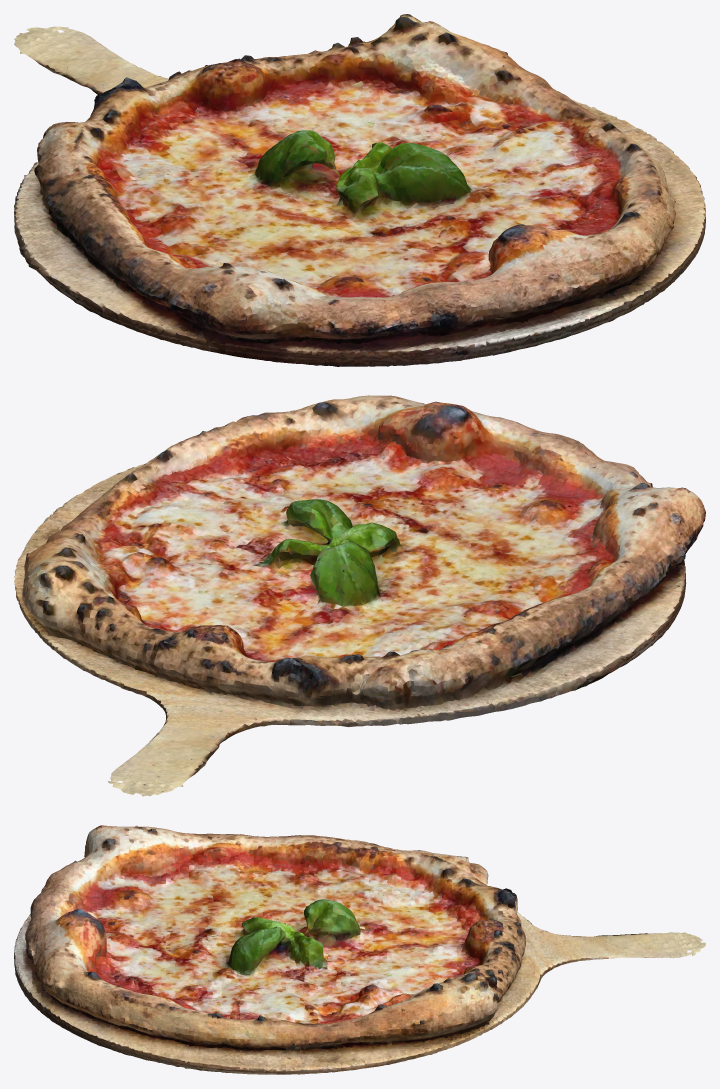
The model's file is pizza-margherita.glb.
3 renders of one model, top to bottom at view 1: azimuth 30°, elevation 25°; view 2: azimuth 150°, elevation 25°; view 3: azimuth 270°, elevation 25°, orthographic. The views are drawn at different scales.
Size of the model in its own units: 0.3316 by 0.0421 by 0.4305.
Materials: 1 (1 with a texture image).
